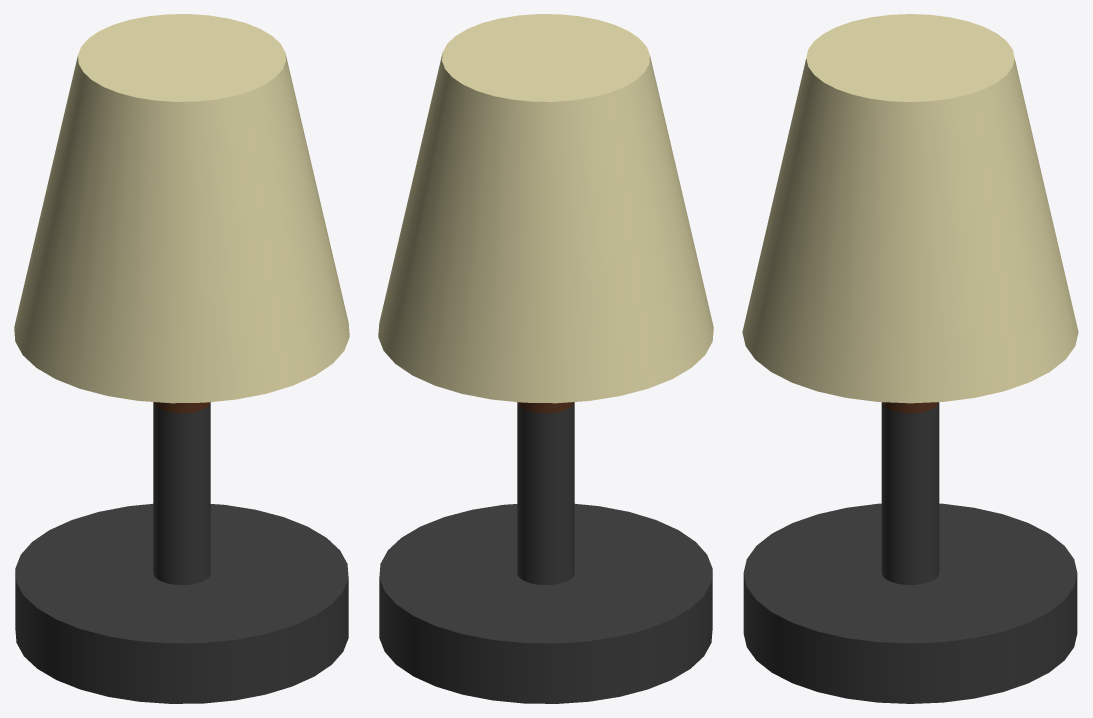
File: Lamp.fbx
3 views of the same model, side by side, from view 1: azimuth 30°, elevation 25°; view 2: azimuth 150°, elevation 25°; view 3: azimuth 270°, elevation 25° (orthographic).
Parts seen in each view (by area): view 1: Cylinder; view 2: Cylinder; view 3: Cylinder.
Part boxes in pixels (x1=…): Cylinder: x1=14, y1=14, x2=349, y2=703; Cylinder: x1=378, y1=14, x2=713, y2=703; Cylinder: x1=742, y1=14, x2=1078, y2=703.
Bounding box in the file's own units: 15.11 × 28.53 × 15.11.
